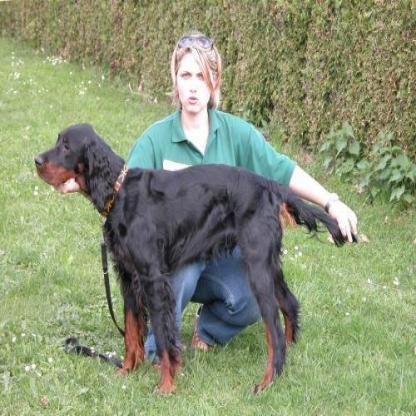Gordon_setter: (32, 120, 367, 396)
